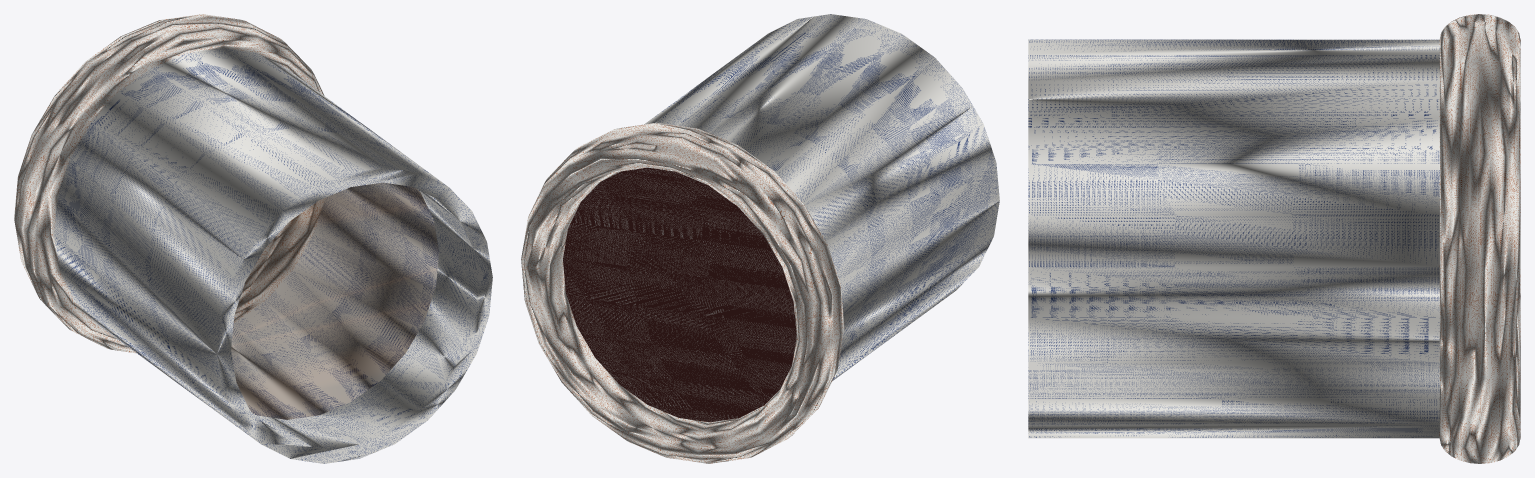
File: model_align.obj
3 renders of one model, left to right at view 1: azimuth 30°, elevation 25°; view 2: azimuth 150°, elevation 25°; view 3: azimuth 270°, elevation 25°, orthographic. The views are drawn at different scales.
Size of the model in its own units: 0.0845 by 0.0845 by 0.0918.
